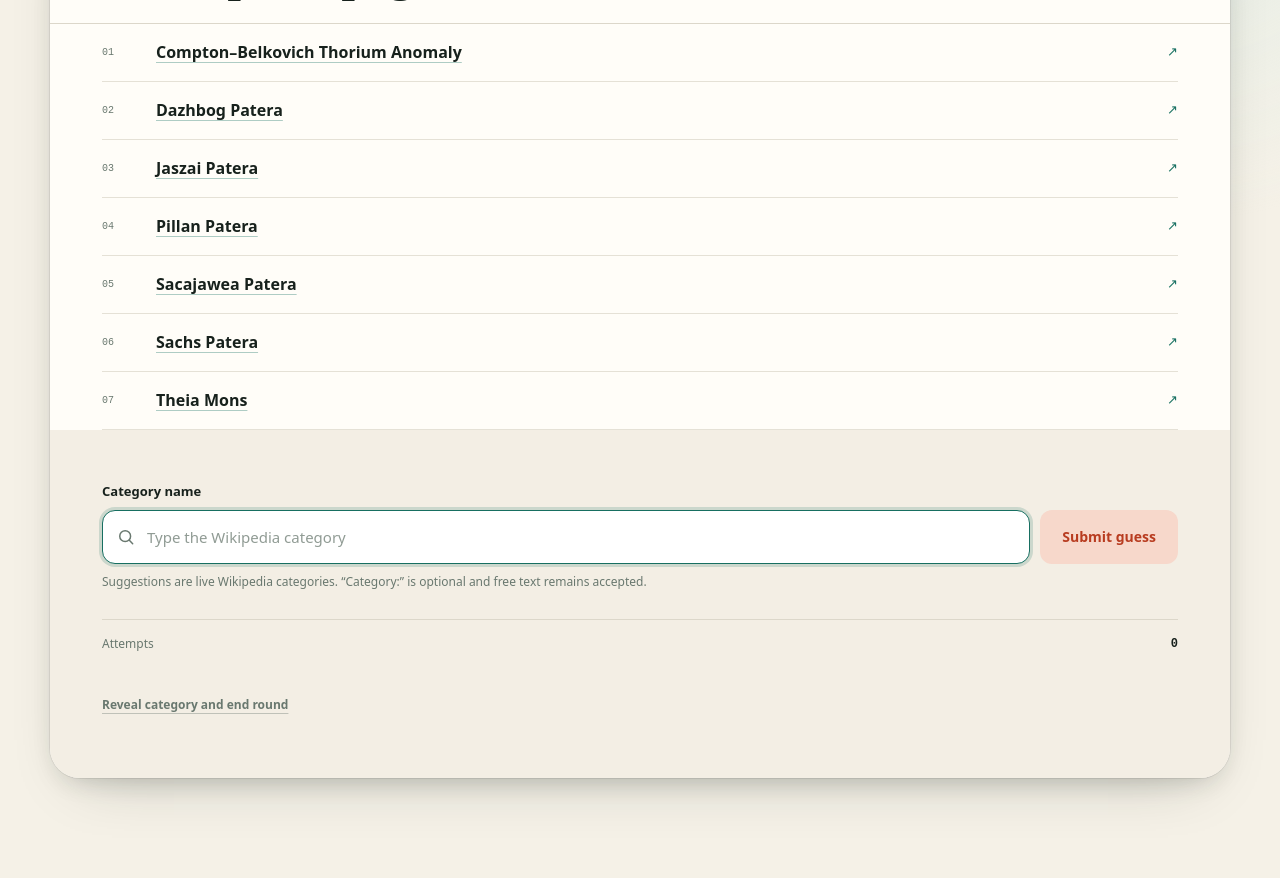
Arcade › searches live Wikipedia categories and supports keyboard selection
(page scrolled)
Type "extraterrestrial volca" into the dropdown labelled "Category name" at {"x": 566, "y": 537}, box [102,510,1030,564]
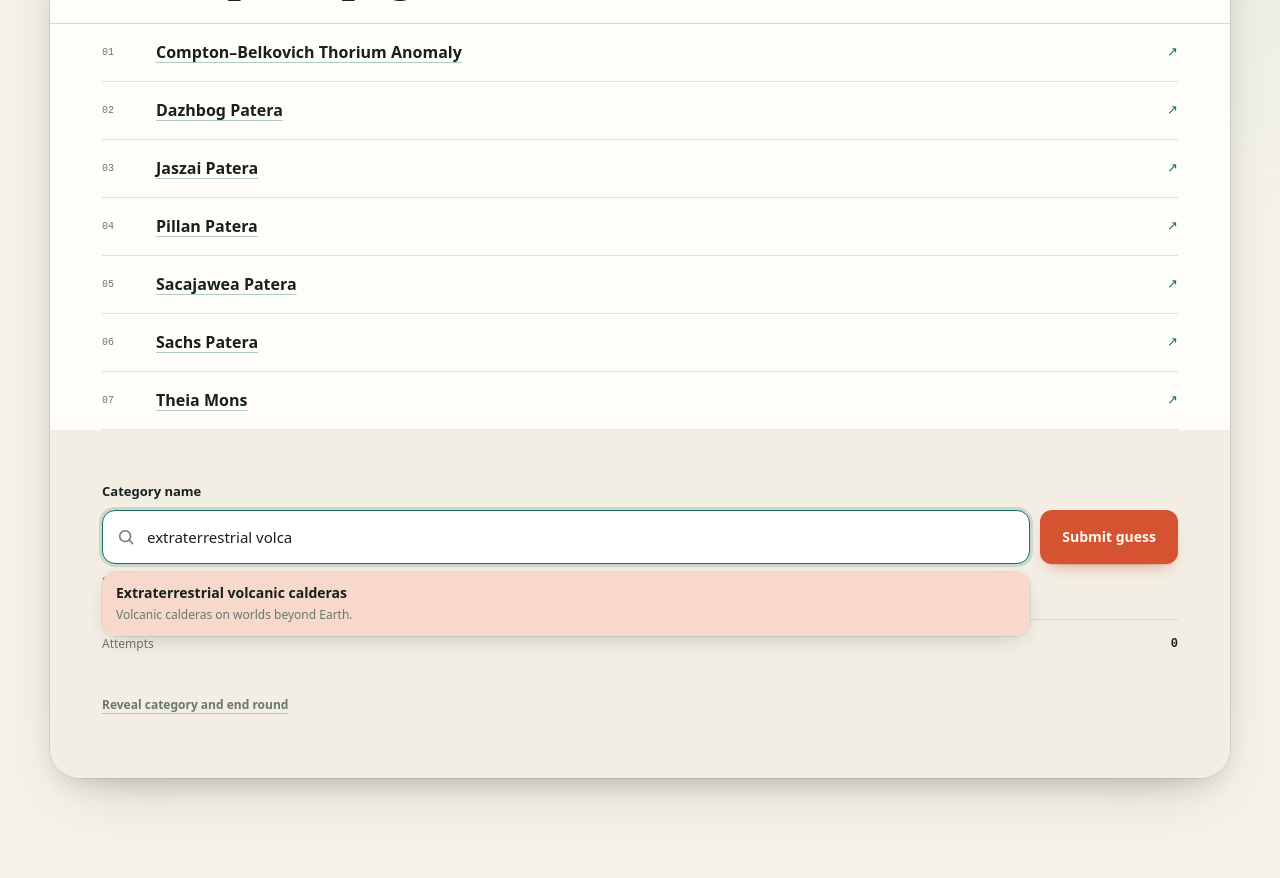
Check: the option "Extraterrestrial volcanic calderas" is shown, box [102,572,1030,636]
Press Enter
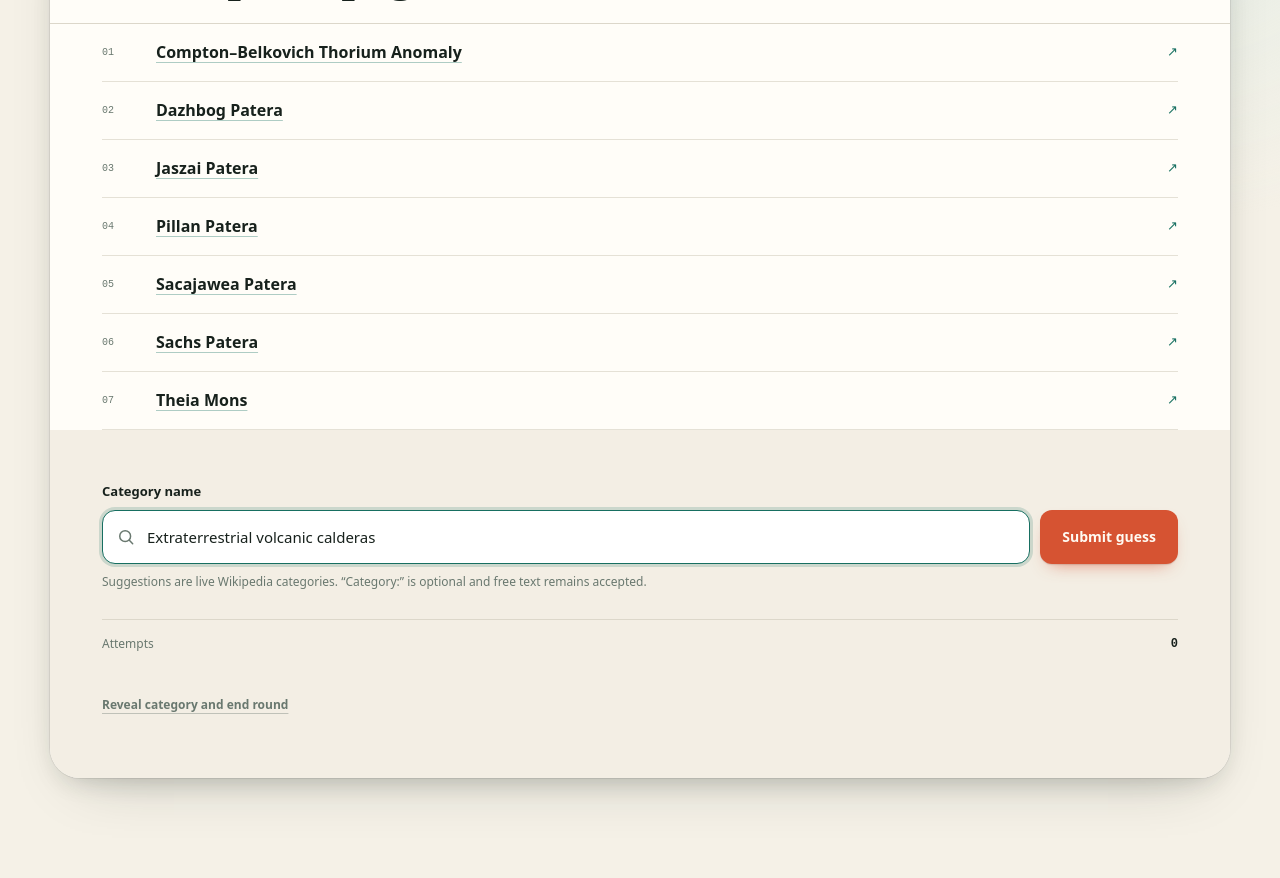
Check: the dropdown labelled "Category name" holds "Extraterrestrial volcanic calderas", box [102,510,1030,564]
Check: the option is gone
Press Enter
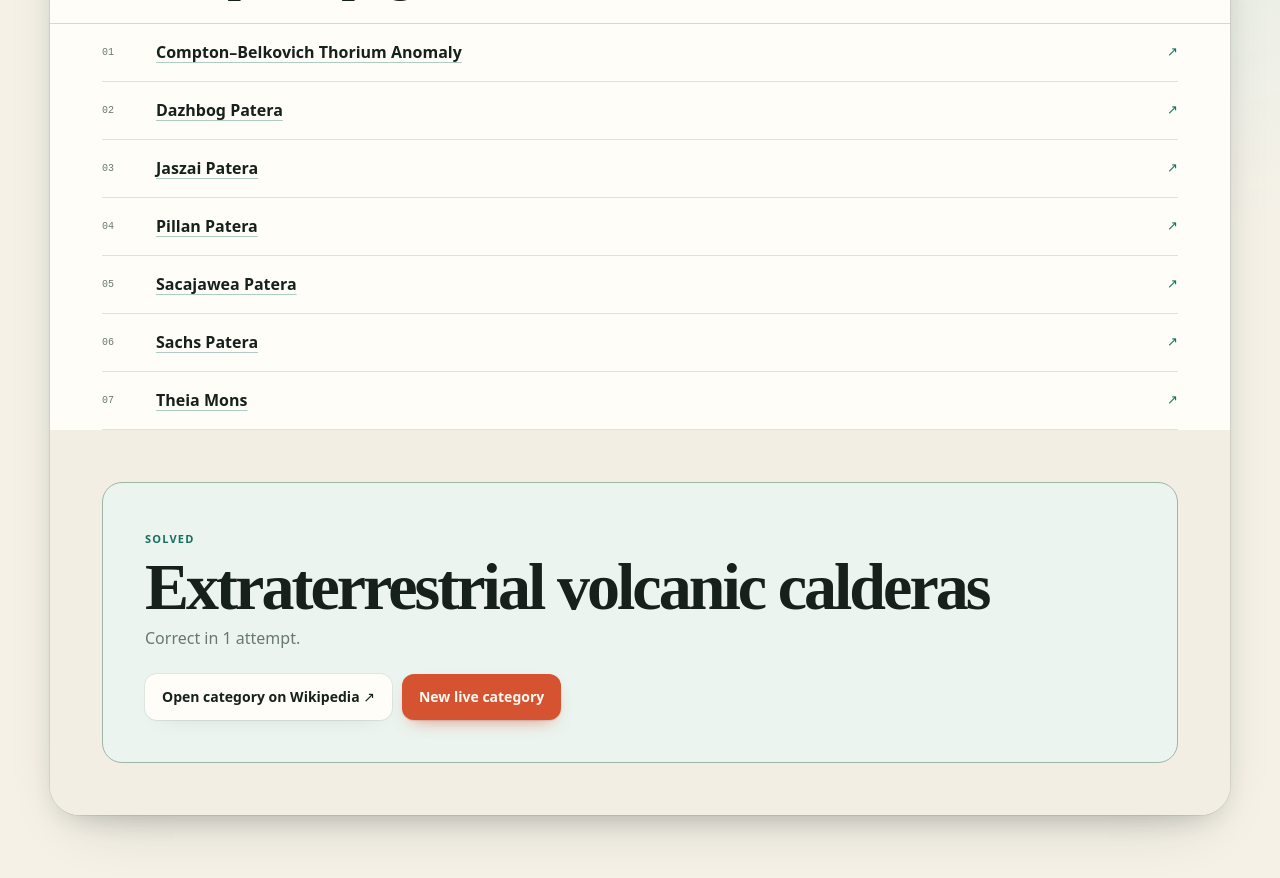
Check: the heading "Extraterrestrial volcanic calderas" is shown, box [145,555,1135,618]
